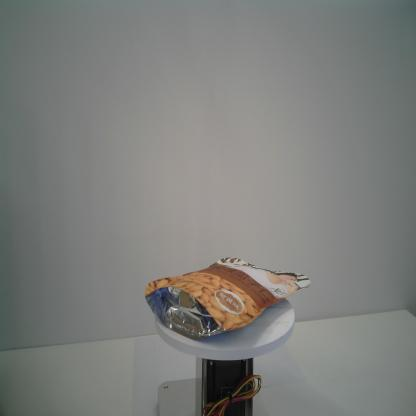Dried Fruit: (144, 256, 312, 341)
